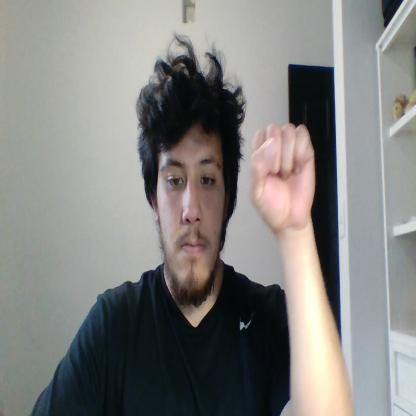S: (248, 124, 316, 232)
